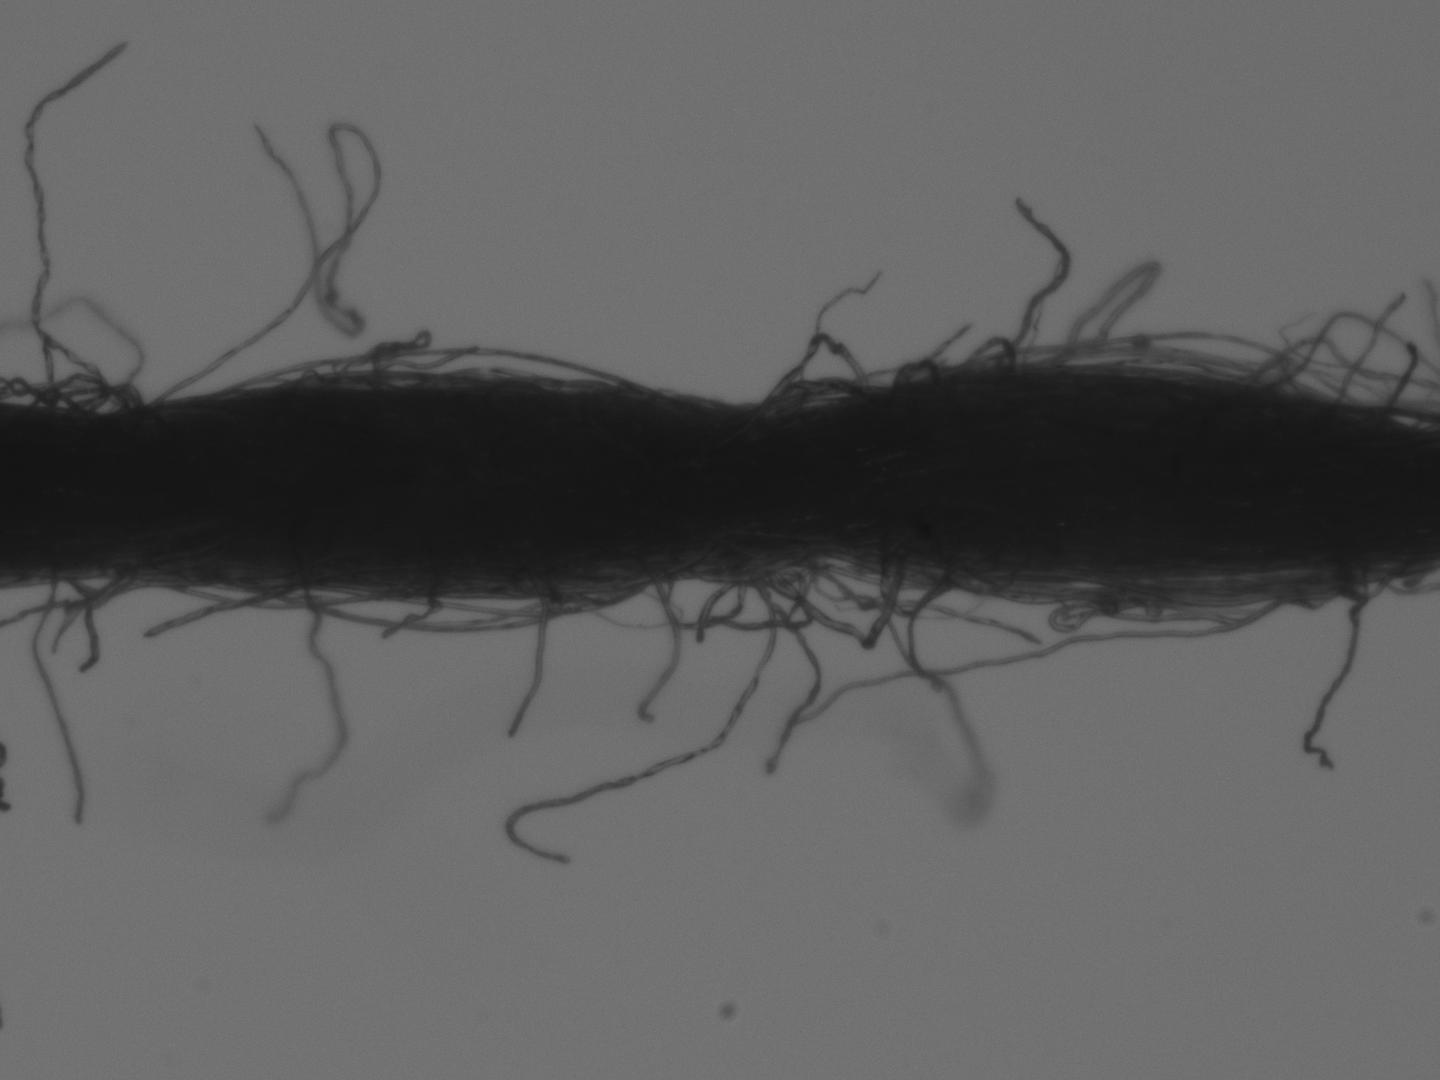loop_fiber: (633, 528, 1010, 693), (186, 326, 740, 419), (264, 573, 647, 639), (980, 568, 1359, 630), (726, 327, 887, 452), (886, 328, 1030, 420), (156, 577, 412, 615), (1102, 351, 1263, 391), (27, 371, 141, 415)
protruding_fiber: (23, 555, 91, 833), (500, 592, 549, 741)
